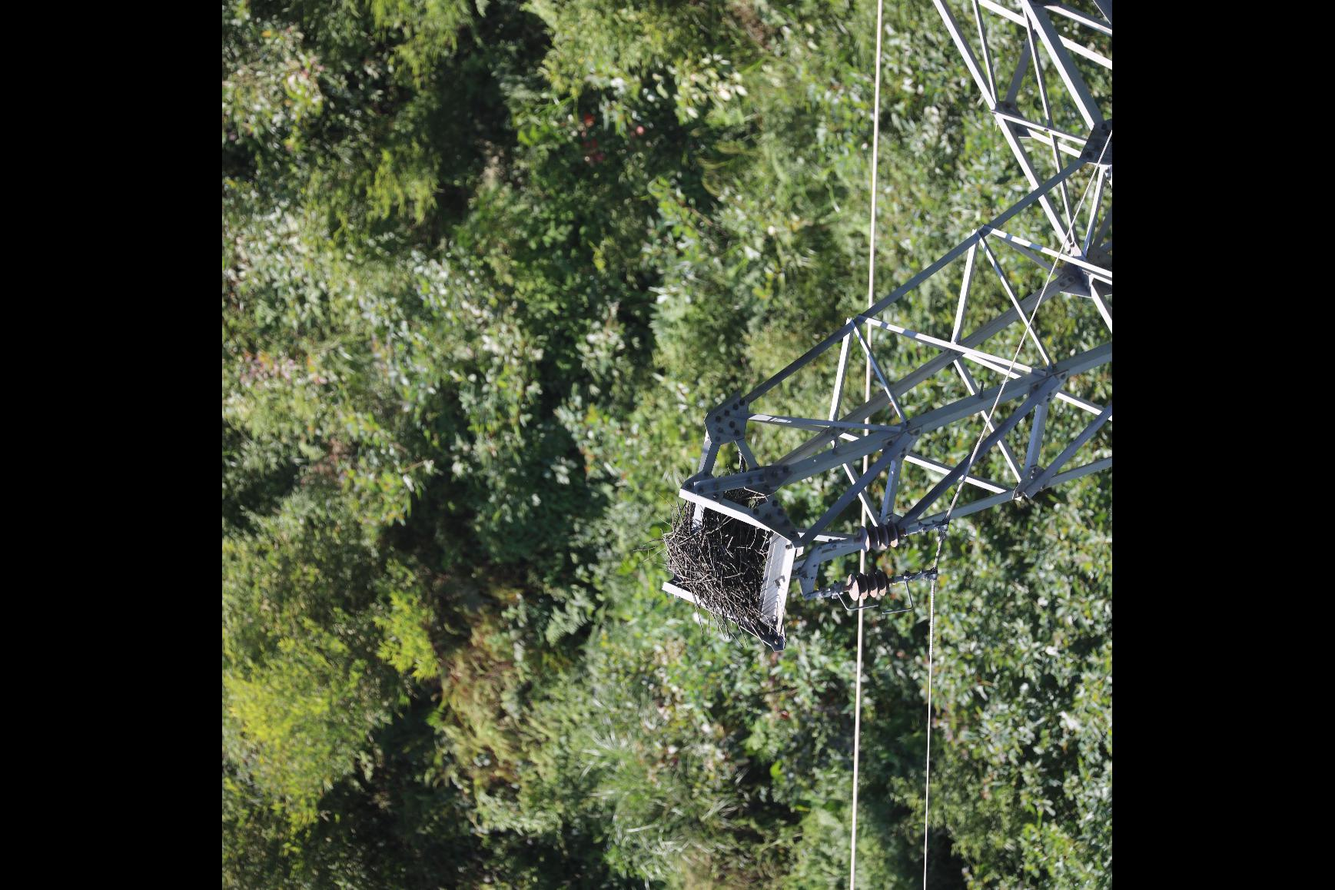nest: (656, 497, 769, 637)
